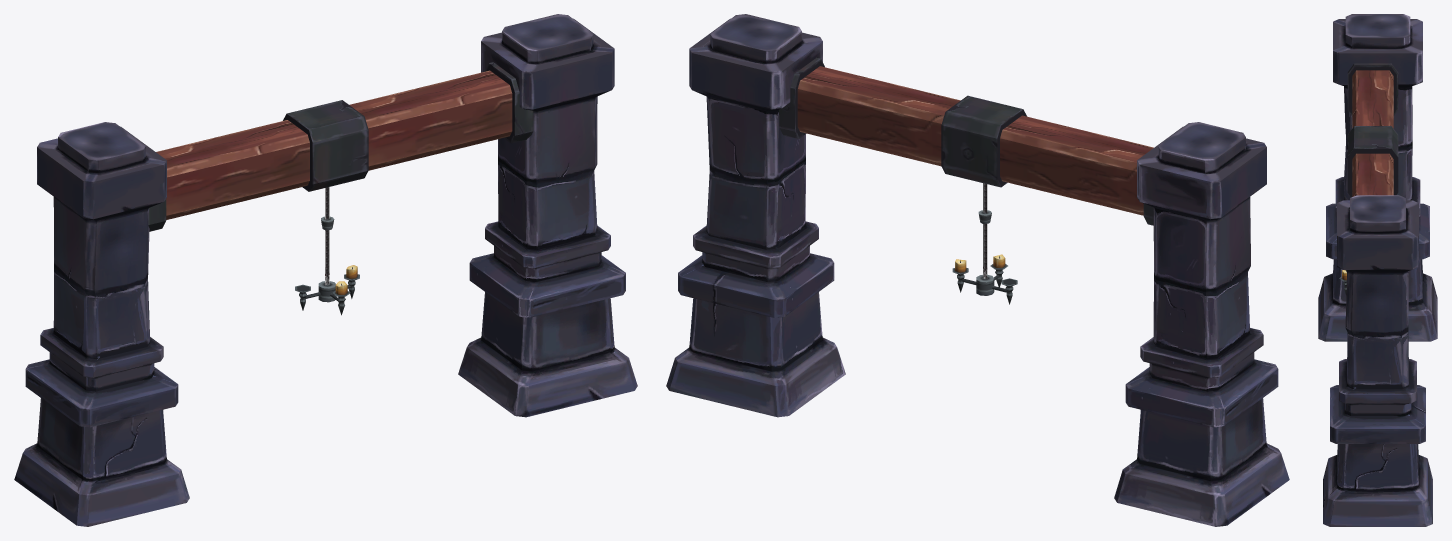
Rendered from Pillier.fbx.
The picture shows the model from 3 angles, left to right: view 1: azimuth 30°, elevation 25°; view 2: azimuth 150°, elevation 25°; view 3: azimuth 270°, elevation 25°; orthographic projection. The views are drawn at different scales.
Visible parts, largest first — view 1: pilier.001; view 2: pilier.001; view 3: pilier.001.
Part boxes in pixels (bbox=[...]): pilier.001: bbox=[14, 14, 637, 526]; pilier.001: bbox=[666, 14, 1289, 526]; pilier.001: bbox=[1318, 14, 1437, 526].
Size of the model in its own units: 728 by 429 by 158.
Materials: 2 (2 with a texture image).
